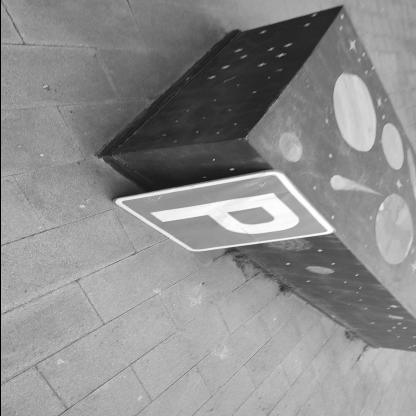Parking-Sign: (107, 169, 339, 255)
